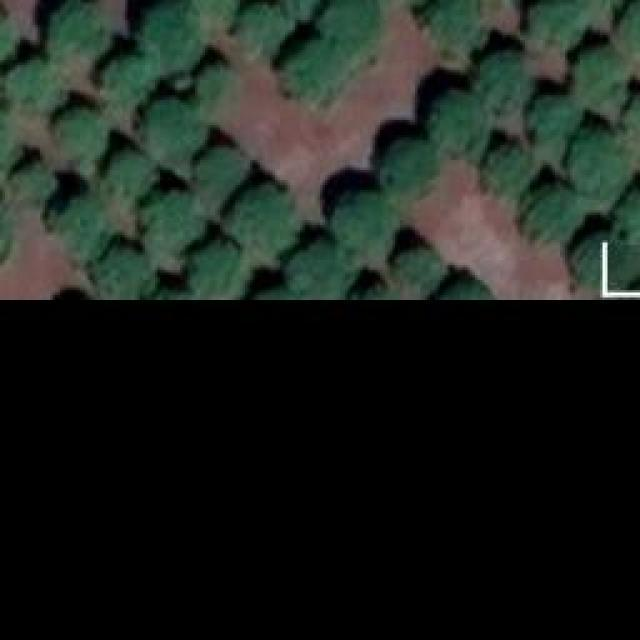Tree: (233, 178, 296, 248), (135, 0, 208, 60), (185, 233, 253, 296), (135, 185, 205, 245), (568, 128, 631, 193), (427, 88, 485, 151), (50, 3, 110, 63), (0, 55, 65, 110), (290, 238, 355, 293), (50, 198, 108, 258), (50, 105, 105, 168), (332, 192, 390, 250), (283, 43, 346, 96), (518, 183, 578, 238), (88, 240, 148, 295), (147, 95, 205, 150), (190, 145, 248, 200), (320, 0, 380, 52), (562, 45, 620, 98), (383, 138, 438, 191), (100, 58, 155, 108), (528, 0, 583, 50), (388, 240, 443, 290), (478, 50, 531, 100), (242, 0, 290, 55), (10, 153, 58, 206), (423, 0, 476, 45), (193, 57, 238, 105), (527, 93, 575, 138), (482, 143, 530, 188), (108, 150, 151, 193), (178, 0, 251, 18), (0, 3, 20, 66), (620, 0, 640, 52), (0, 103, 15, 168), (622, 93, 640, 146), (277, 0, 335, 15), (446, 283, 488, 299)
